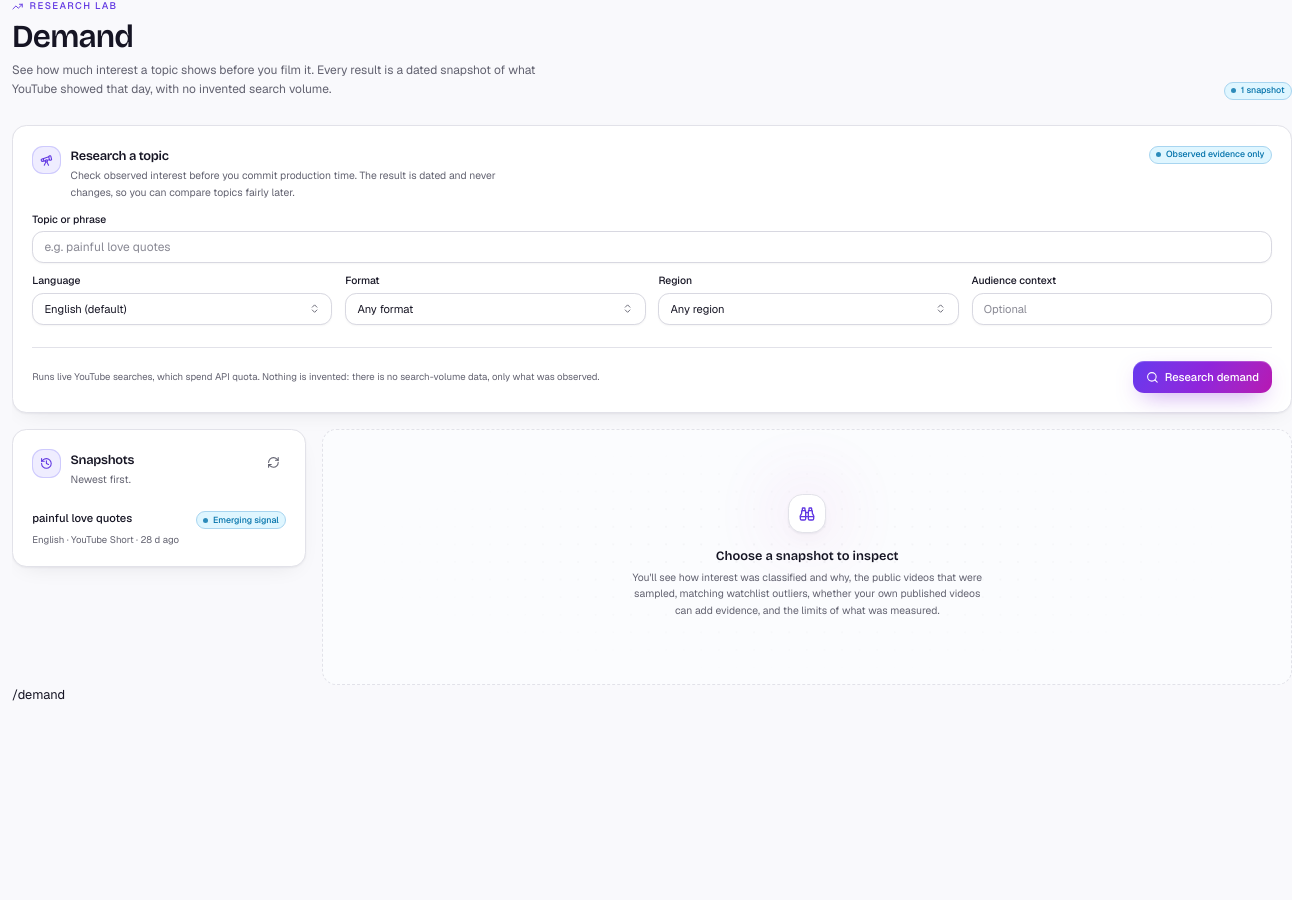
Test case: DemandPage › researches a topic and opens the new snapshot
The width and height of the screenshot is (1292, 900).
Type "  heartbreak quotes  " into the field labelled "Topic or phrase" at point(652, 247), box [32,231,1272,263]
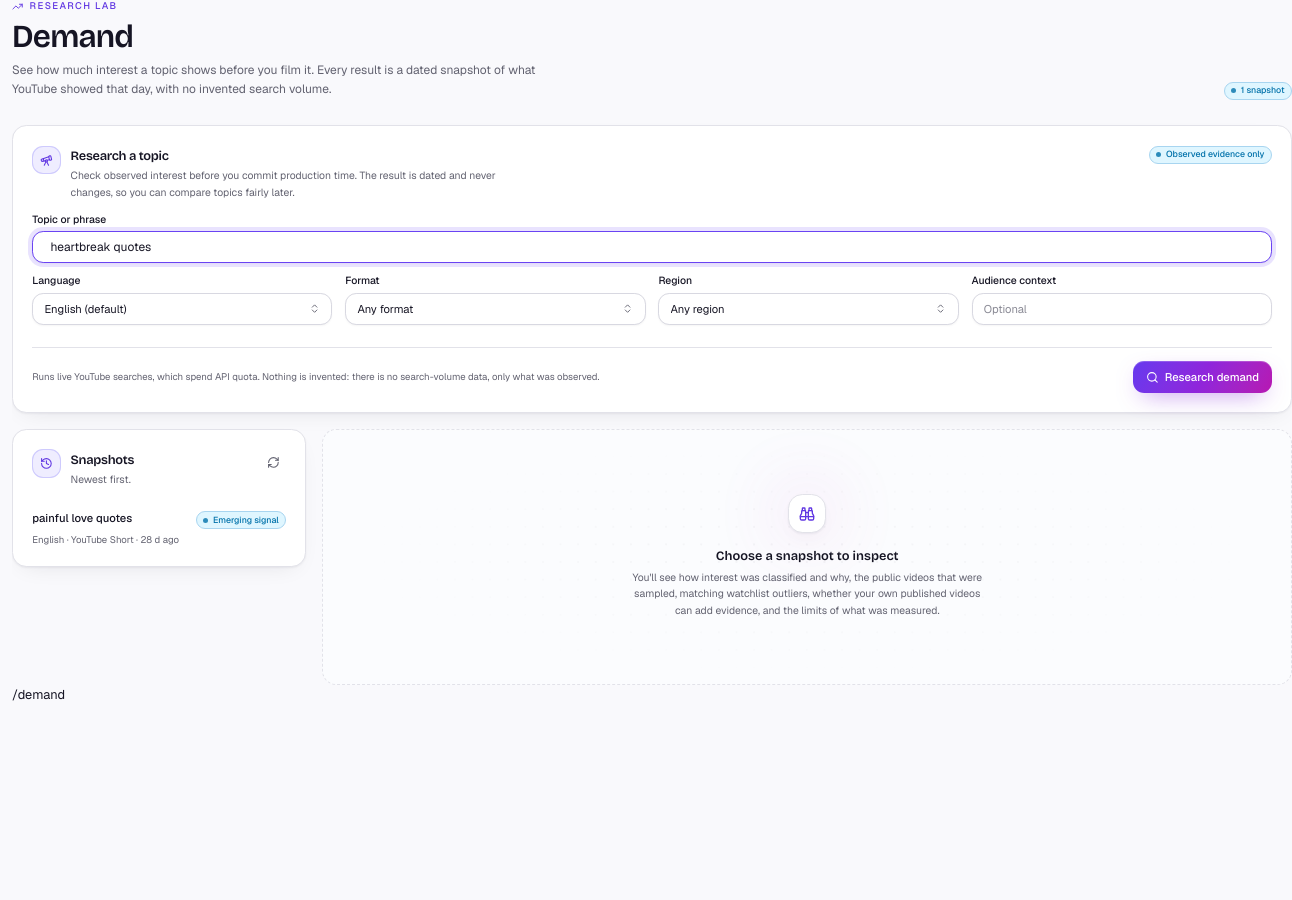
Click the button "Research demand" at point(1202, 377), box [1133,361,1272,393]
(page scrolled)
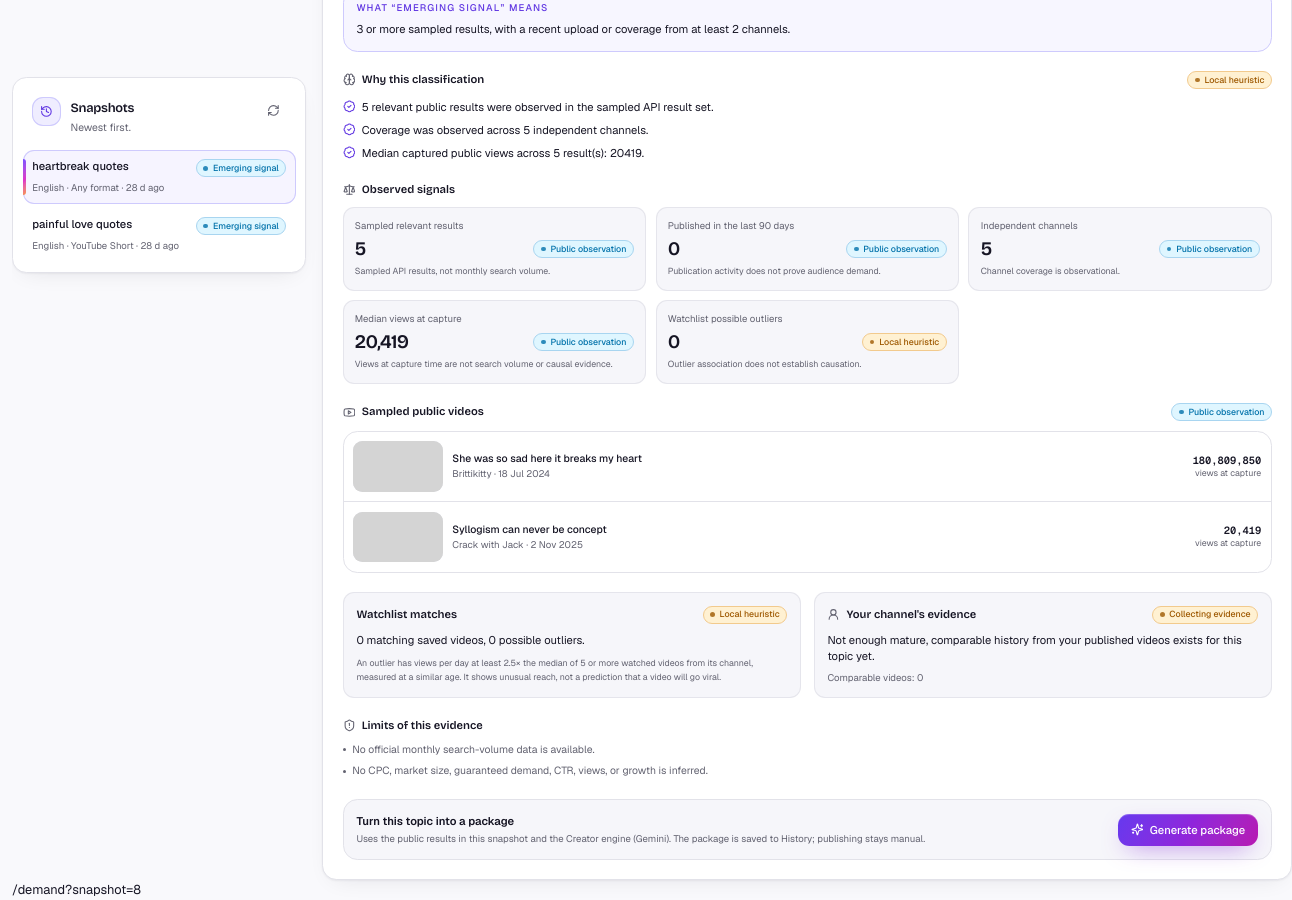
Check: the text with test id "location" reads "/demand?snapshot=8", box [12,881,141,898]
